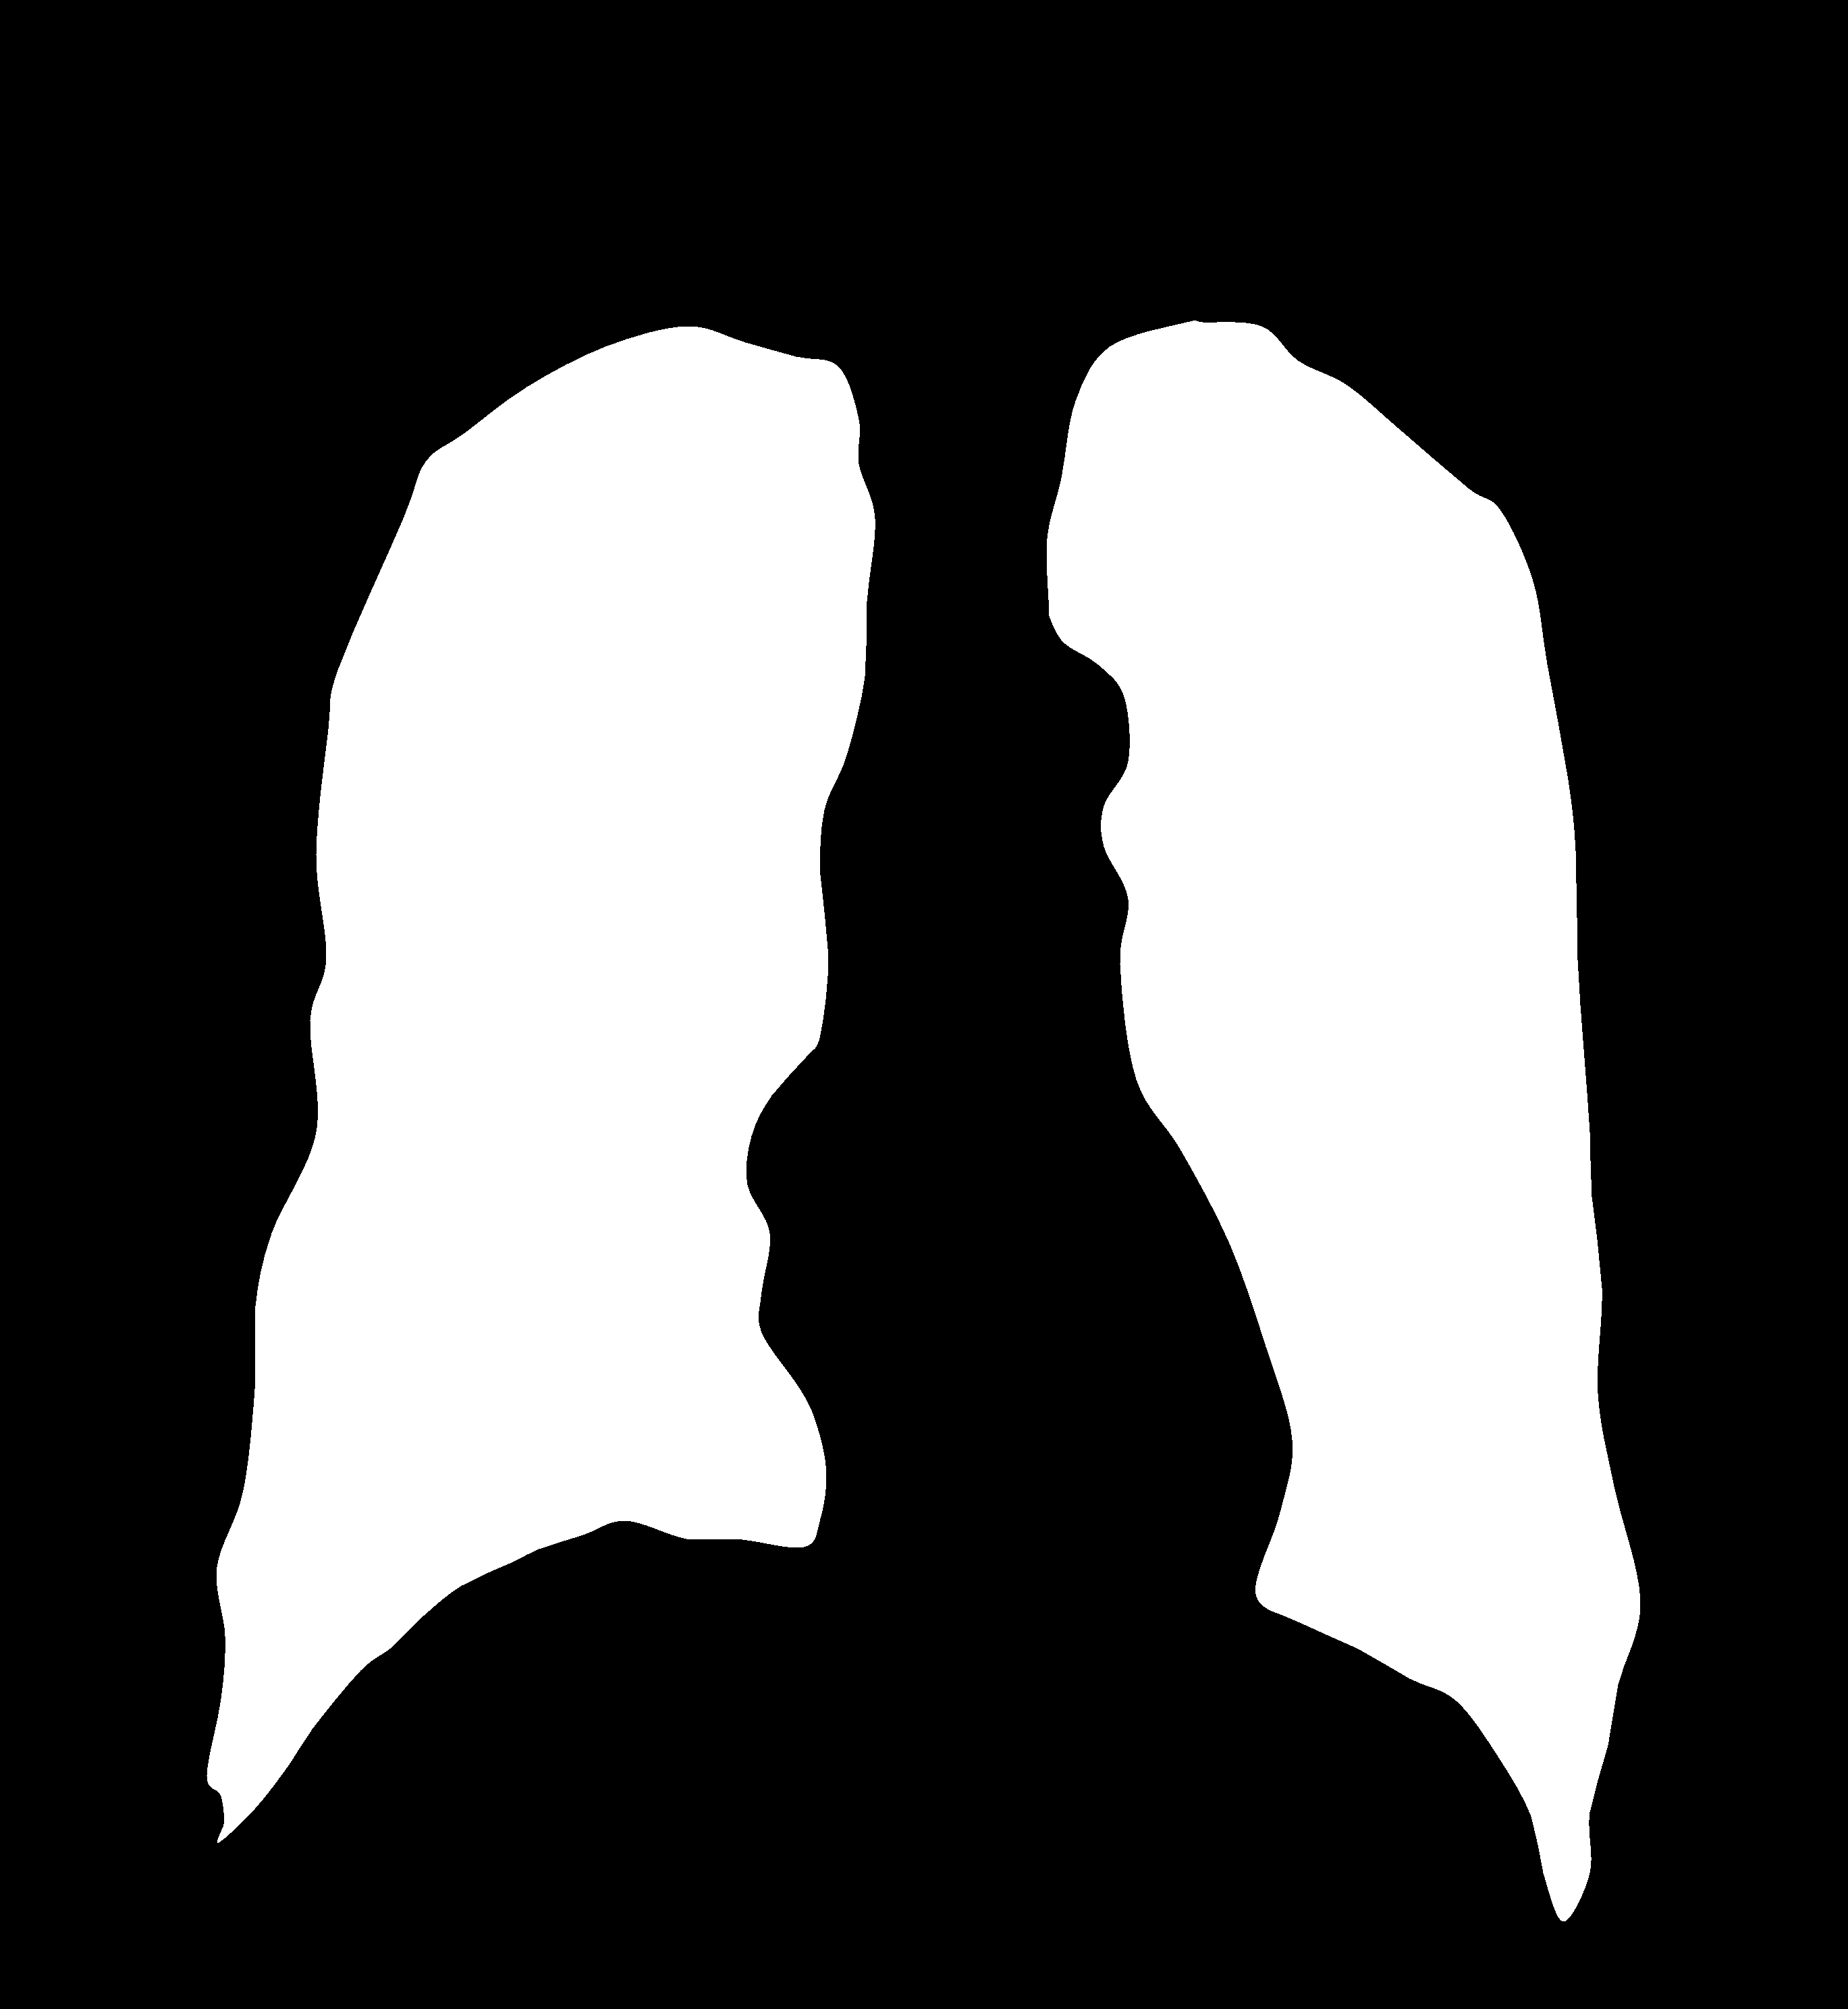heart: (733, 1047, 1298, 1649)
left_lung: (206, 327, 875, 1843)
right_lung: (1046, 320, 1633, 1915)
